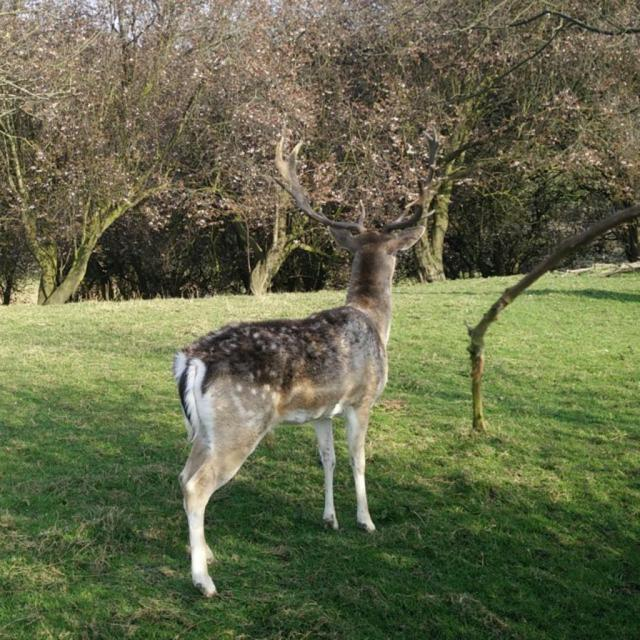Deer: (175, 136, 477, 597)
